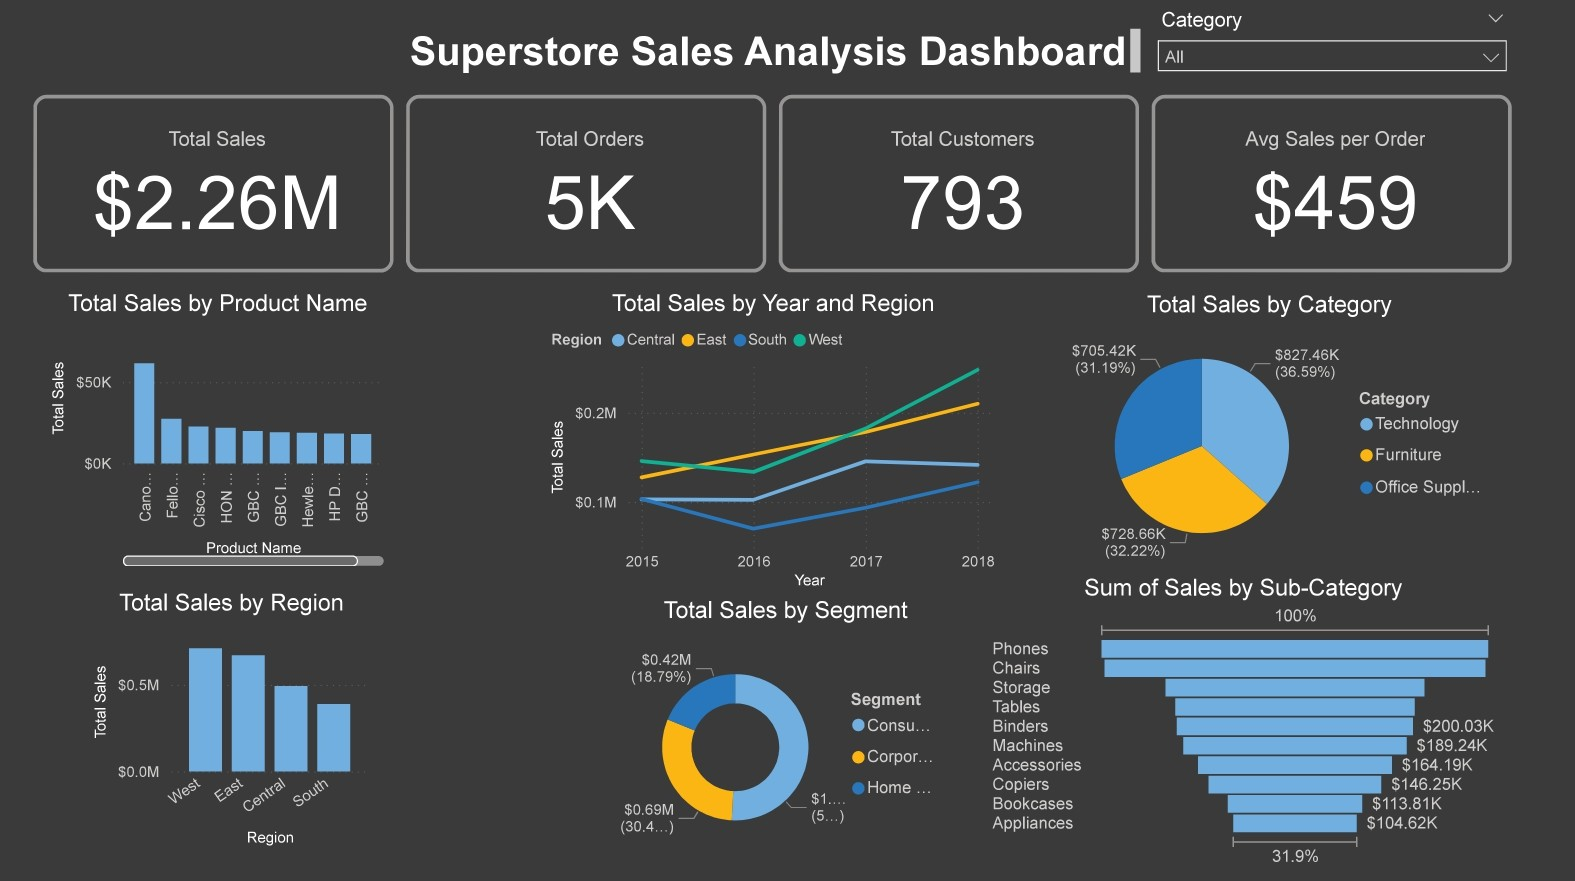

What the dashboard file says about the page in this screenshot:
{"tool":"powerbi","page":{"name":"Page 1","canvas":[1280,720],"ordinal":0},"visuals":[{"type":"lineChart","fields":{"Category":["train.Order Date.Variation.Date Hierarchy.Year","train.Order Date.Variation.Date Hierarchy.Quarter","train.Order Date.Variation.Date Hierarchy.Month"],"Y":["train.Total Sales"],"Series":["train.Region"]},"box":[447.3,238.1,366.5,245.3],"z":0},{"type":"pieChart","fields":{"Category":["train.Category"],"Y":["train.Total Sales"]},"box":[844,239.5,372.2,228],"z":1000},{"type":"donutChart","fields":{"Category":["train.Segment"],"Y":["train.Total Sales"]},"box":[502.1,484.8,277,220.7],"z":2000},{"type":"columnChart","fields":{"Category":["train.Region"],"Y":["train.Total Sales"]},"box":[79.4,479,230.8,210.6],"z":3000},{"type":"clusteredColumnChart","fields":{"Category":["train.Product Name"],"Y":["train.Total Sales"]},"box":[44.7,238.1,277,226.5],"z":4000},{"type":"funnel","fields":{"Category":["train.Sub-Category"],"Y":["Sum(train.Sales)"]},"box":[802.2,467.5,414.1,238.1],"z":5000},{"type":"textbox","box":[333,22.9,598.4,45.8],"z":6000},{"type":"cardVisual","fields":{"Data":["train.Total Sales","train.Total Orders","train.Total Customers","train.Avg Sales per Order"]},"box":[30.3,76.5,1201.8,152.9],"z":7000},{"type":"slicer","fields":{"Values":["train.Category"]},"box":[930.2,7.2,300.4,71.2],"z":8000}]}

Visuals, with their boxes in screenshot pixels (x1, y1, x2, y2), scaled from the page's 1280x720 canvas onto the 1575x881 screenshot:
lineChart - train.Order Date.Variation.Date Hierarchy.Year x train.Order Date.Variation.Date Hierarchy.Quarter: (left=550, top=291, right=1001, bottom=591)
pieChart - train.Category x train.Total Sales: (left=1039, top=293, right=1496, bottom=572)
donutChart - train.Segment x train.Total Sales: (left=618, top=593, right=959, bottom=863)
columnChart - train.Region x train.Total Sales: (left=98, top=586, right=382, bottom=844)
clusteredColumnChart - train.Product Name x train.Total Sales: (left=55, top=291, right=396, bottom=568)
funnel - train.Sub-Category x Sum(train.Sales): (left=987, top=572, right=1497, bottom=863)
textbox: (left=410, top=28, right=1146, bottom=84)
cardVisual - train.Total Sales x train.Total Orders: (left=37, top=94, right=1516, bottom=281)
slicer - train.Category: (left=1145, top=9, right=1514, bottom=96)
